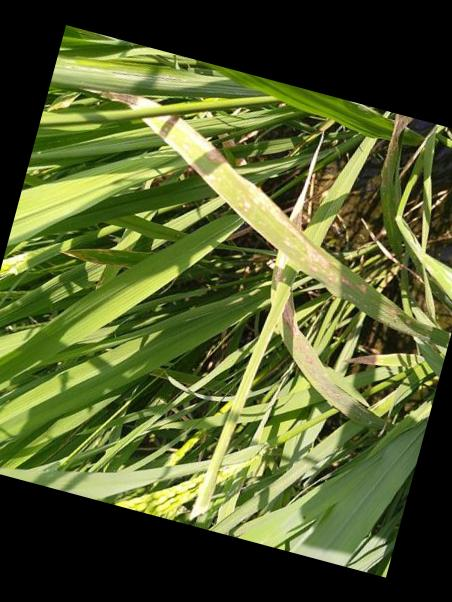Leaf Streak: (143, 113, 452, 348), (282, 291, 386, 428), (382, 112, 419, 221), (290, 130, 325, 229), (346, 352, 426, 369), (101, 89, 160, 106), (269, 250, 289, 291)
